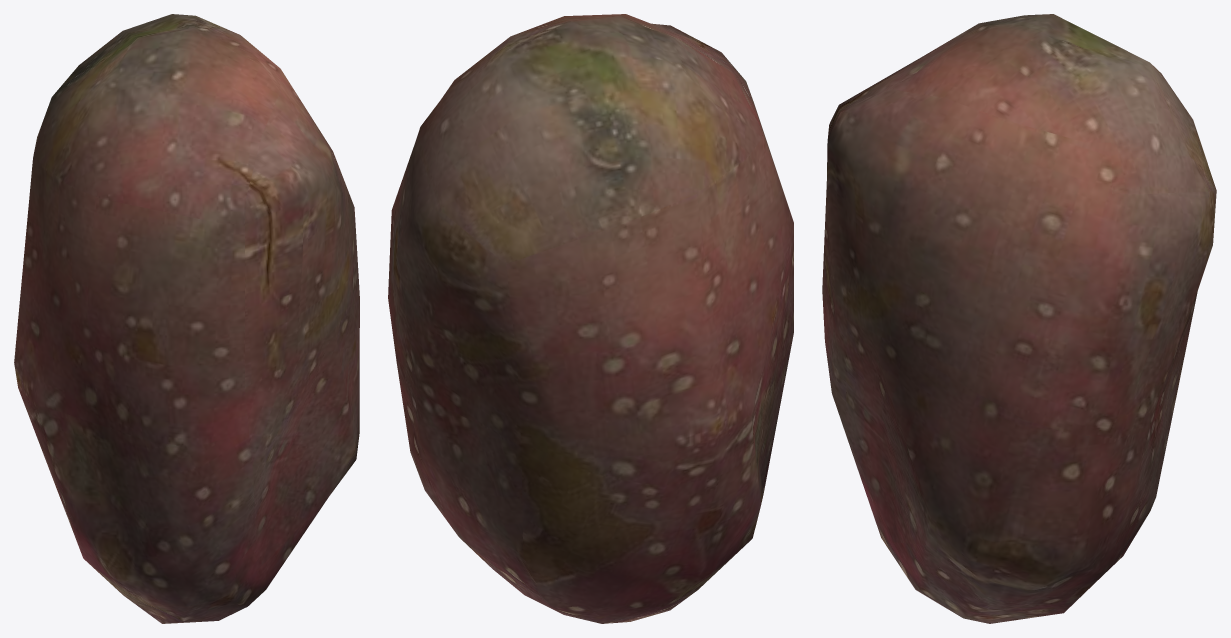
The model's file is sweet_potato.glb.
3 renders of one model, left to right at view 1: azimuth 30°, elevation 25°; view 2: azimuth 150°, elevation 25°; view 3: azimuth 270°, elevation 25°, orthographic. The views are drawn at different scales.
Parts seen in each view (by area): view 1: sweet_potato; view 2: sweet_potato; view 3: sweet_potato.
Part boxes in pixels (x1,y1,x2,y2): sweet_potato: [14, 14, 359, 623]; sweet_potato: [388, 14, 793, 623]; sweet_potato: [822, 14, 1216, 623].
Bounding box in the file's own units: 0.0573 × 0.1003 × 0.0604.
Materials: 1 (1 with a texture image).
